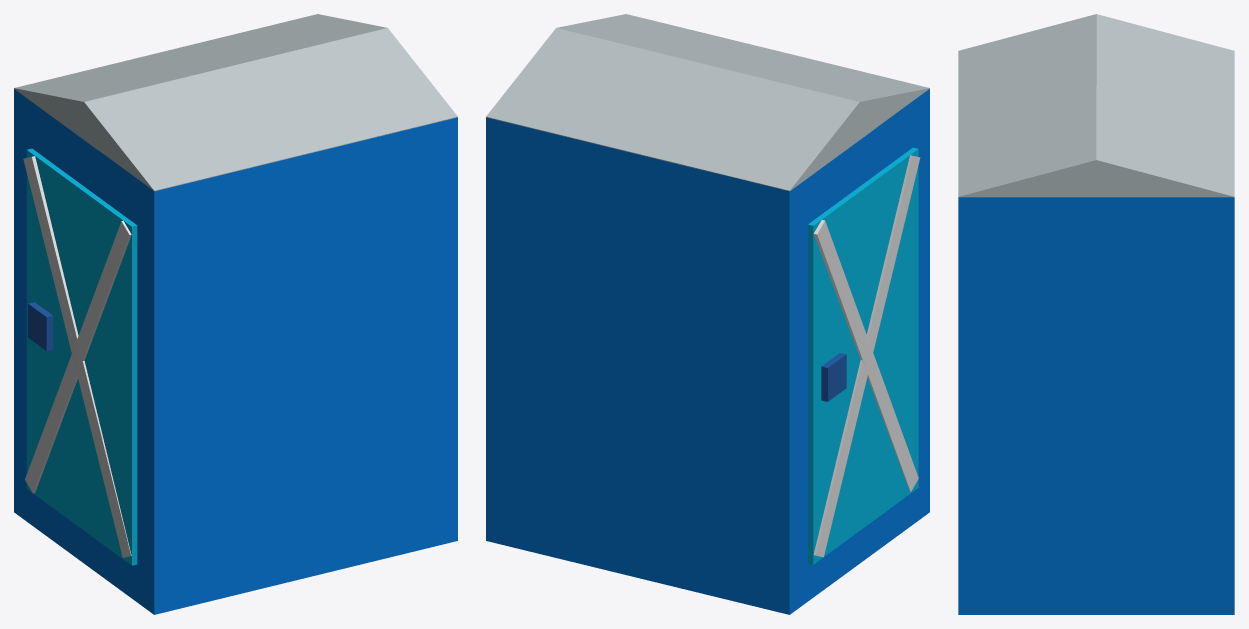
File: toilet_blue.fbx
3 views of the same model, side by side, from view 1: azimuth 30°, elevation 25°; view 2: azimuth 150°, elevation 25°; view 3: azimuth 270°, elevation 25° (orthographic).
Parts seen in each view (by area): view 1: Cube, Roof, Door, Cube.003, Cube.002, Cube.001; view 2: Cube, Roof, Door, Cube.002, Cube.003, Cube.001; view 3: Cube, Roof.
Part boxes in pixels (box(x1,y1,x2,y2)): Cube: box(14, 89, 457, 614); Roof: box(14, 14, 457, 191); Door: box(26, 148, 137, 565); Cube.003: box(23, 156, 131, 557); Cube.002: box(25, 220, 131, 493); Cube.001: box(28, 302, 53, 350); Cube: box(486, 89, 929, 614); Roof: box(486, 14, 929, 191); Door: box(808, 147, 918, 564); Cube.002: box(813, 155, 920, 557); Cube.003: box(813, 220, 918, 492); Cube.001: box(821, 353, 846, 401); Cube: box(958, 197, 1234, 614); Roof: box(958, 14, 1234, 197).
Bounding box in the file's own units: 0.7797 × 1.09 × 0.6.
